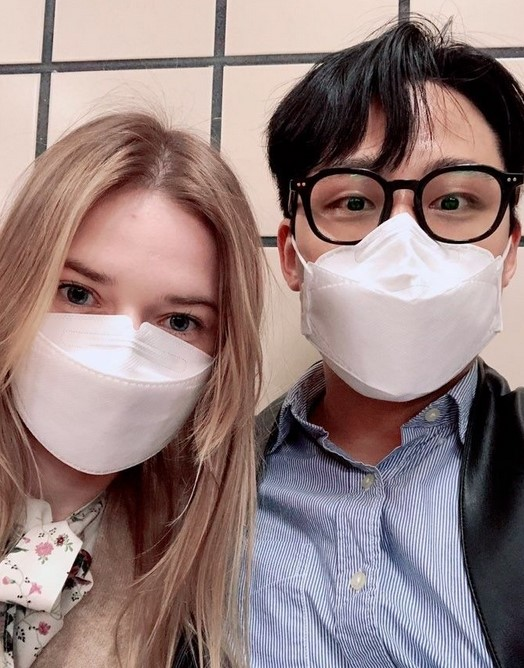face_with_mask: (278, 42, 522, 405), (4, 146, 258, 481)
